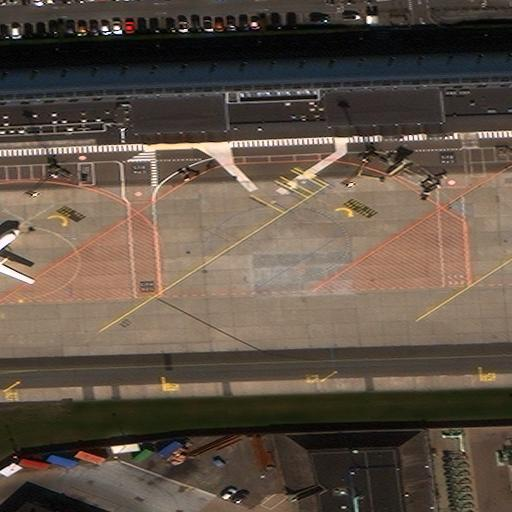Medium Civil Transport: (0, 230, 34, 285)
